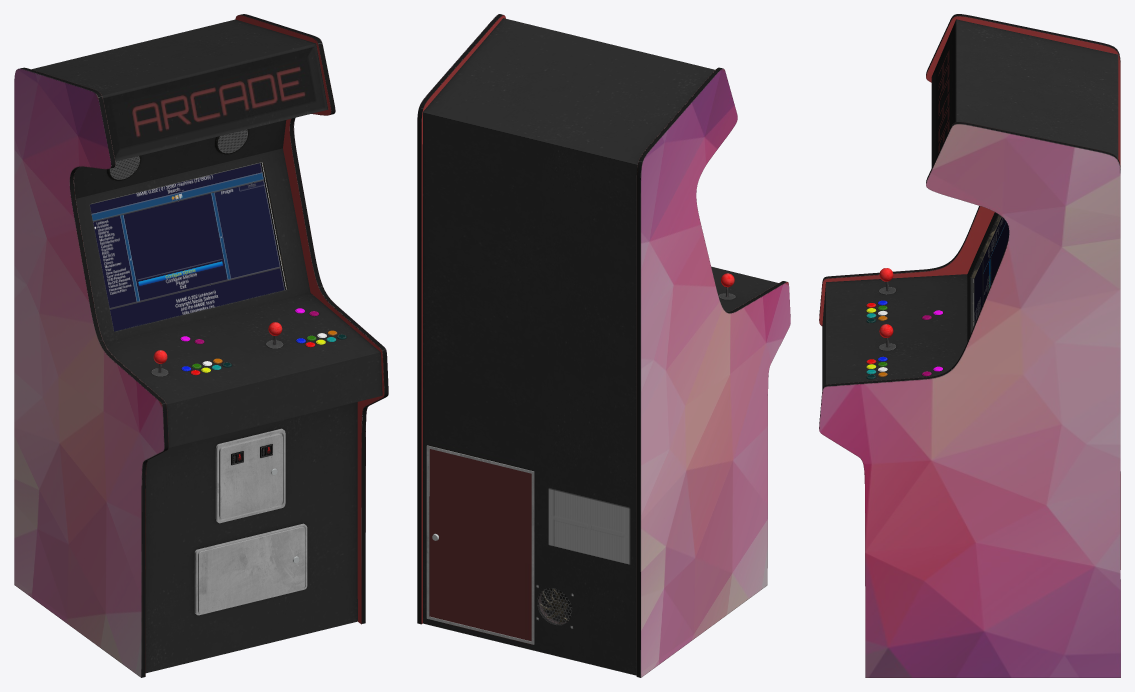
File: arcade.obj
3 views of the same model, side by side, from view 1: azimuth 30°, elevation 25°; view 2: azimuth 150°, elevation 25°; view 3: azimuth 270°, elevation 25° (orthographic).
Parts seen in each view (by area): view 1: Body_Body_0, SidePanels_BodyLateral_0, Screen_Screen_0, MaintenanceDoor_BodyMetal_0, CoinPlate_BodyMetal_0, Plane.001_Speaker_0; view 2: Body_Body_0, SidePanels_BodyLateral_0, BackMaintenanceDoor_BodyMetal_0, honeycomb_BodyMetal_0; view 3: SidePanels_BodyLateral_0, Body_Body_0, Screen_Screen_0.
Boxes of the visible parts, bbox=[...] form: Body_Body_0: bbox=[32, 19, 382, 673]; SidePanels_BodyLateral_0: bbox=[14, 14, 388, 677]; Screen_Screen_0: bbox=[90, 162, 287, 331]; MaintenanceDoor_BodyMetal_0: bbox=[194, 523, 307, 615]; CoinPlate_BodyMetal_0: bbox=[215, 428, 285, 523]; Plane.001_Speaker_0: bbox=[107, 129, 248, 180]; Body_Body_0: bbox=[422, 18, 778, 675]; SidePanels_BodyLateral_0: bbox=[417, 14, 790, 677]; BackMaintenanceDoor_BodyMetal_0: bbox=[426, 445, 534, 644]; honeycomb_BodyMetal_0: bbox=[538, 588, 571, 624]; SidePanels_BodyLateral_0: bbox=[819, 14, 1120, 677]; Body_Body_0: bbox=[822, 19, 1118, 389]; Screen_Screen_0: bbox=[971, 215, 1009, 332].
Size of the model in its own units: 0.9305 by 2.18 by 1.08.
